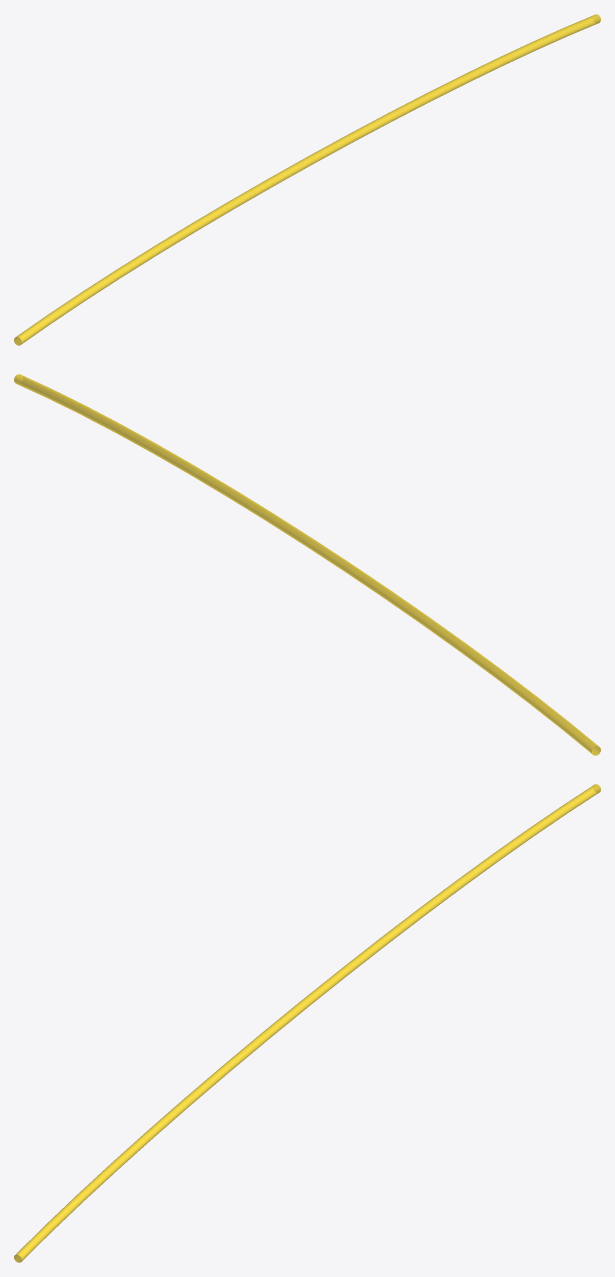
File: Event_17758602_track_114.fbx
The picture shows the model from 3 angles, top to bottom: view 1: azimuth 90°, elevation 25°; view 2: azimuth 150°, elevation 25°; view 3: azimuth 270°, elevation 25°; orthographic projection. The views are drawn at different scales.
Visible parts, largest first — view 1: Model; view 2: Model; view 3: Model.
Boxes of the visible parts, bbox=[...] form: Model: bbox=[14, 14, 600, 345]; Model: bbox=[14, 374, 600, 755]; Model: bbox=[14, 784, 600, 1262].
Bounding box in the file's own units: 4.01 × 0.39 × 2.5.
